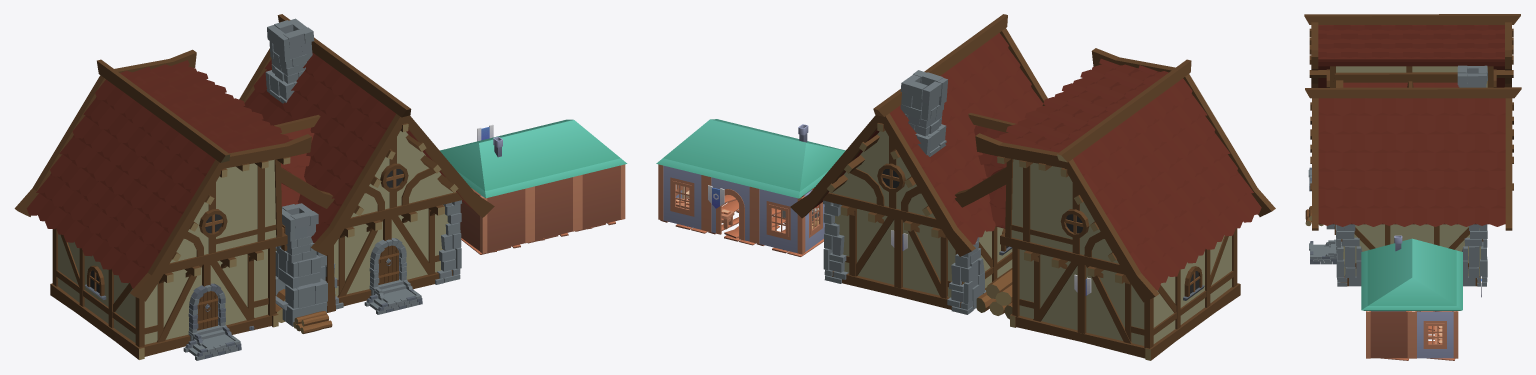
Rendered from london_bld_guild_row.glb.
3 renders of one model, left to right at view 1: azimuth 30°, elevation 25°; view 2: azimuth 150°, elevation 25°; view 3: azimuth 270°, elevation 25°, orthographic. The views are drawn at different scales.
Visible parts, largest first — view 1: Sawmill, Blacksmith, wall-wood (×4), roof-gable-end (×2), roof-gable; view 2: Sawmill, Blacksmith, wall-window-shutters (×3), roof-gable-end (×2), roof-gable, wall-door; view 3: Blacksmith, Sawmill, roof-gable-end (×2), wall-wood, wall-window-shutters, roof-gable.
Part boxes in pixels (x1=…): Sawmill: x1=14, y1=49, x2=335, y2=360; Blacksmith: x1=239, y1=14, x2=494, y2=333; wall-wood (×4): x1=460, y1=164, x2=625, y2=253; roof-gable-end (×2): x1=440, y1=119, x2=627, y2=198; roof-gable: x1=474, y1=125, x2=580, y2=186; Sawmill: x1=955, y1=48, x2=1275, y2=360; Blacksmith: x1=790, y1=14, x2=1047, y2=314; wall-window-shutters (×3): x1=658, y1=164, x2=824, y2=254; roof-gable-end (×2): x1=656, y1=119, x2=845, y2=198; roof-gable: x1=704, y1=125, x2=808, y2=186; wall-door: x1=706, y1=176, x2=754, y2=242; Blacksmith: x1=1305, y1=65, x2=1521, y2=286; Sawmill: x1=1304, y1=14, x2=1520, y2=234; roof-gable-end (×2): x1=1361, y1=238, x2=1462, y2=310; wall-wood: x1=1366, y1=311, x2=1412, y2=358; wall-window-shutters: x1=1412, y1=311, x2=1458, y2=358; roof-gable: x1=1361, y1=248, x2=1462, y2=290.
Size of the model in its own units: 34.68 by 13.73 by 14.82.
43 materials, 13 textured.
